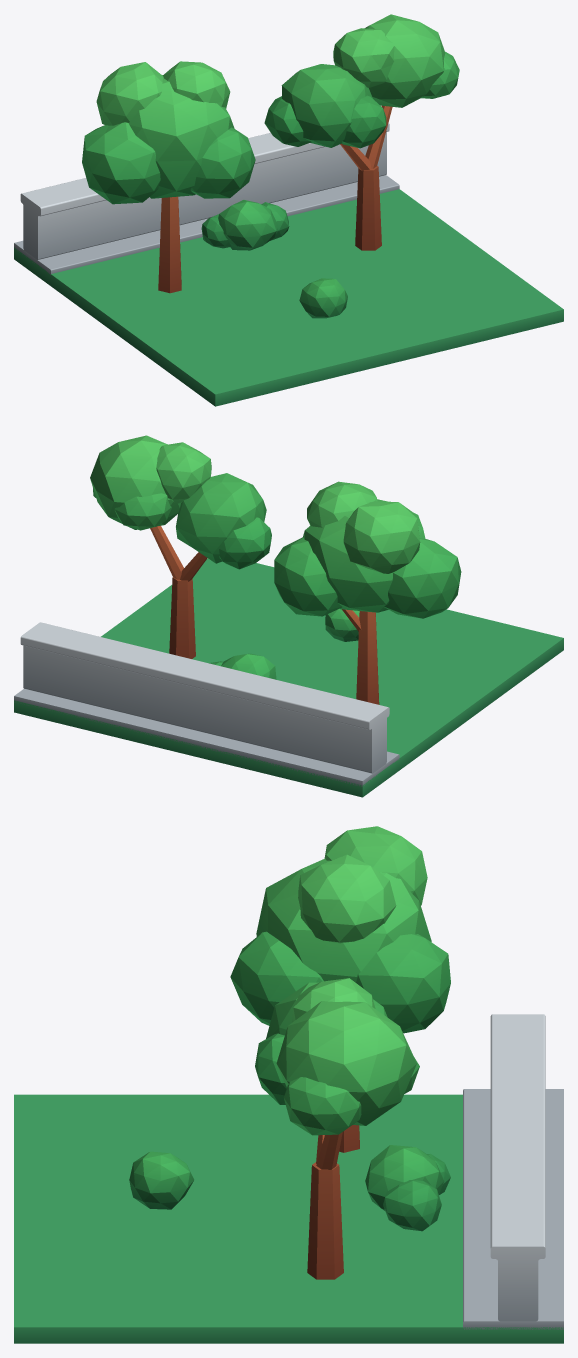
The model's file is muro_arboles.glb.
3 views of the same model, one above another, from view 1: azimuth 30°, elevation 25°; view 2: azimuth 150°, elevation 25°; view 3: azimuth 270°, elevation 25° (orthographic). The views are drawn at different scales.
Parts seen in each view (by area): view 1: muro_arboles; view 2: muro_arboles; view 3: muro_arboles.
Boxes of the visible parts, <box> form: muro_arboles: <box>14,14,563,406</box>; muro_arboles: <box>14,435,563,797</box>; muro_arboles: <box>14,826,563,1343</box>.
Size of the model in its own units: 6.25 by 3.77 by 6.
Materials: 1 (1 with a texture image).
